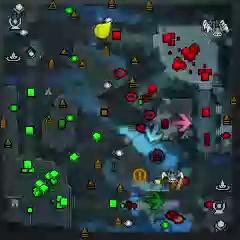p4: (94, 21, 112, 39)
x1: (173, 113, 191, 132)
x3: (144, 123, 161, 142)
x4: (147, 192, 163, 210)
x5: (160, 176, 182, 191)
